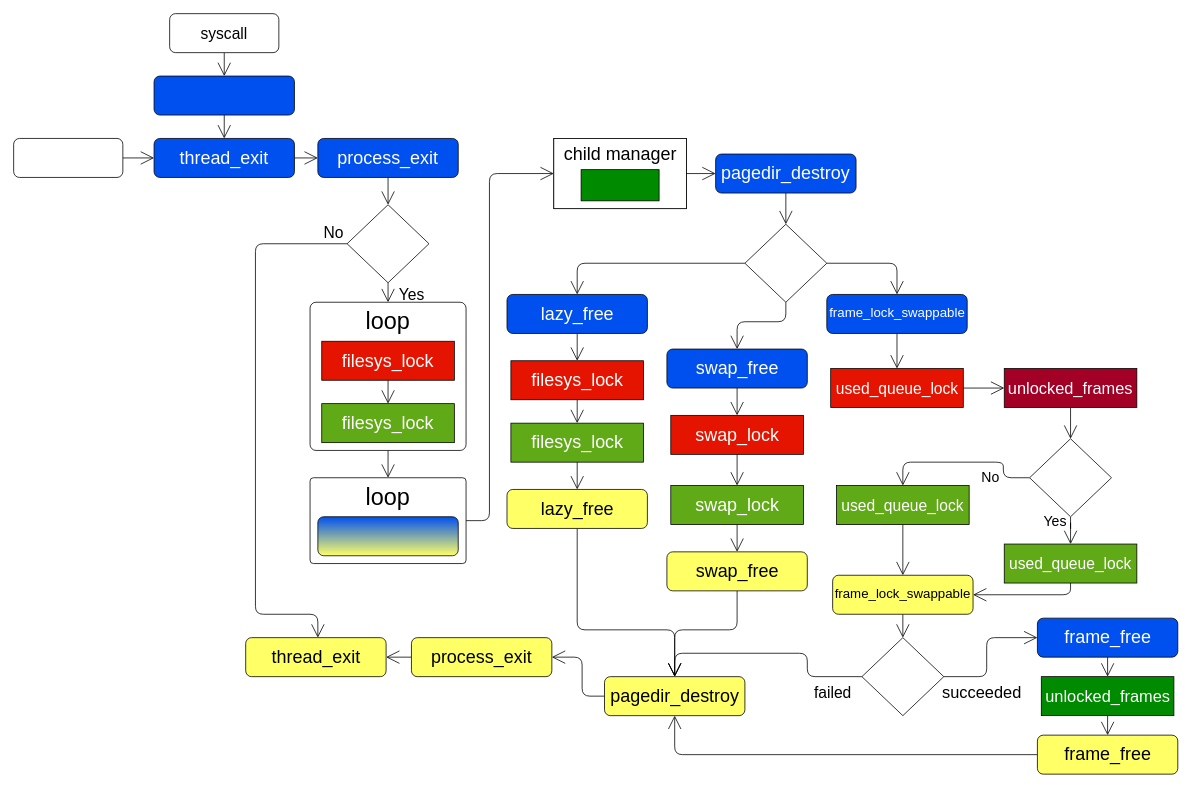
The diagram is 1192 pixels wide and 788 high, and some of its shapes have lost their labels. The box of each missing label's shape, as (x1, y1, x2, y2) in pixels:
entry type: (744, 223, 827, 302)
exit: (153, 75, 294, 115)
frame is locked?: (1029, 438, 1112, 517)
frame lock: (861, 637, 944, 716)
mmap_unregister: (317, 516, 458, 556)
pagedir allocated?: (346, 204, 429, 283)
program: (13, 138, 123, 177)
wait_sema: (580, 169, 659, 201)
